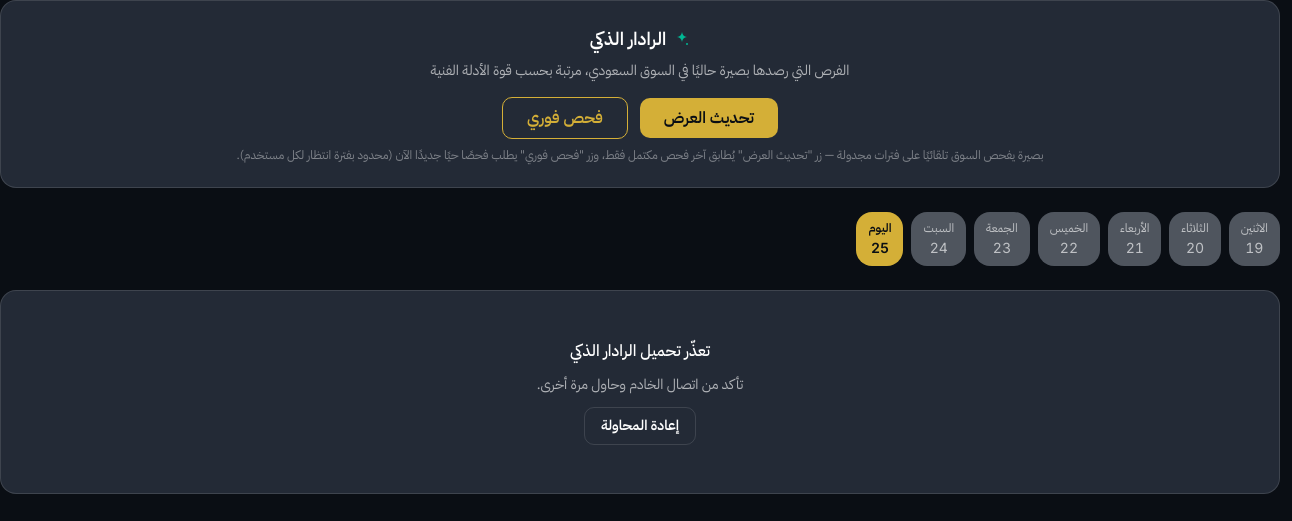
Test: RadarPage › shows an error state and lets the user retry
The width and height of the screenshot is (1292, 521).
Expected: the text "تعذّر تحميل الرادار الذكي" is shown, left=570, top=339, right=710, bottom=363
Click the button "إعادة المحاولة".
click(640, 426)  # box left=584, top=407, right=696, bottom=445
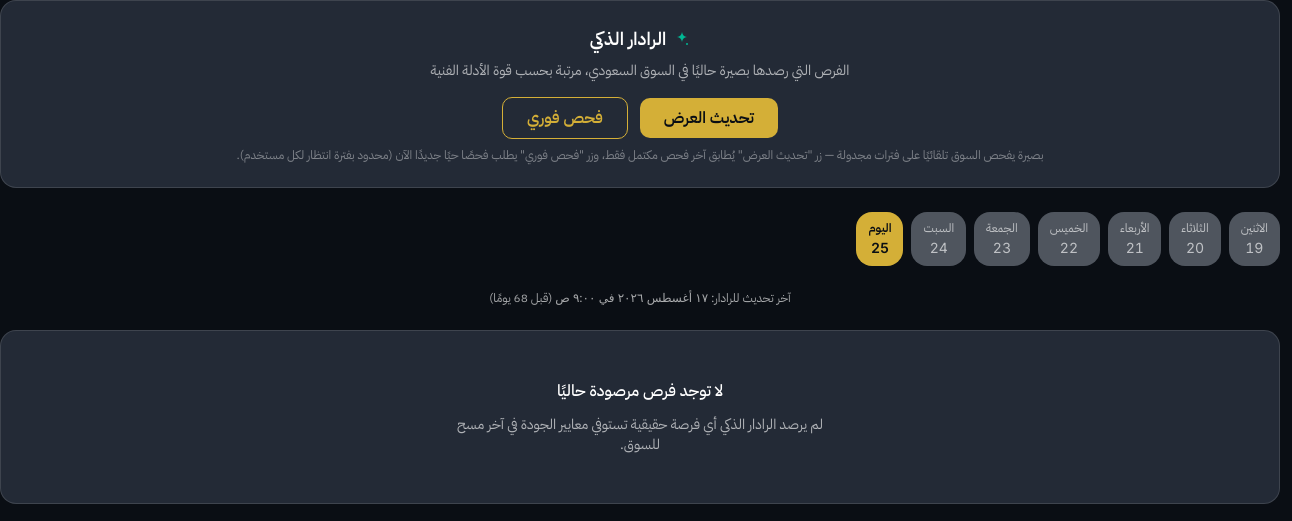
Now the text "لا توجد فرص مرصودة حاليًا" is shown, box left=557, top=379, right=723, bottom=403
